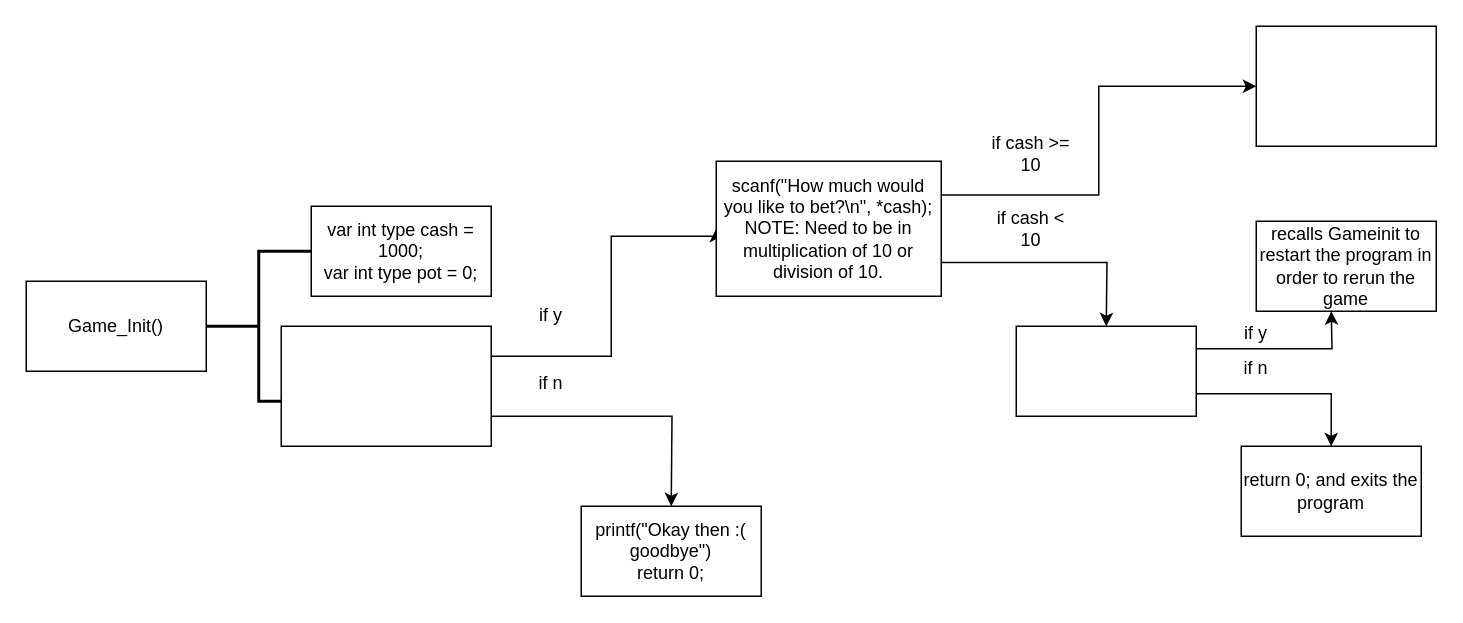
Image size: 1463x623. Some labels were removed from this diagram. Each missing label, with the box of its shape:
printf("sorry, you're broke, would you like to restart? y/n");: (1015, 325, 1196, 416)
printf("Welcome To Blackjack! Would you like to start playing? y/n"): (280, 325, 491, 446)
